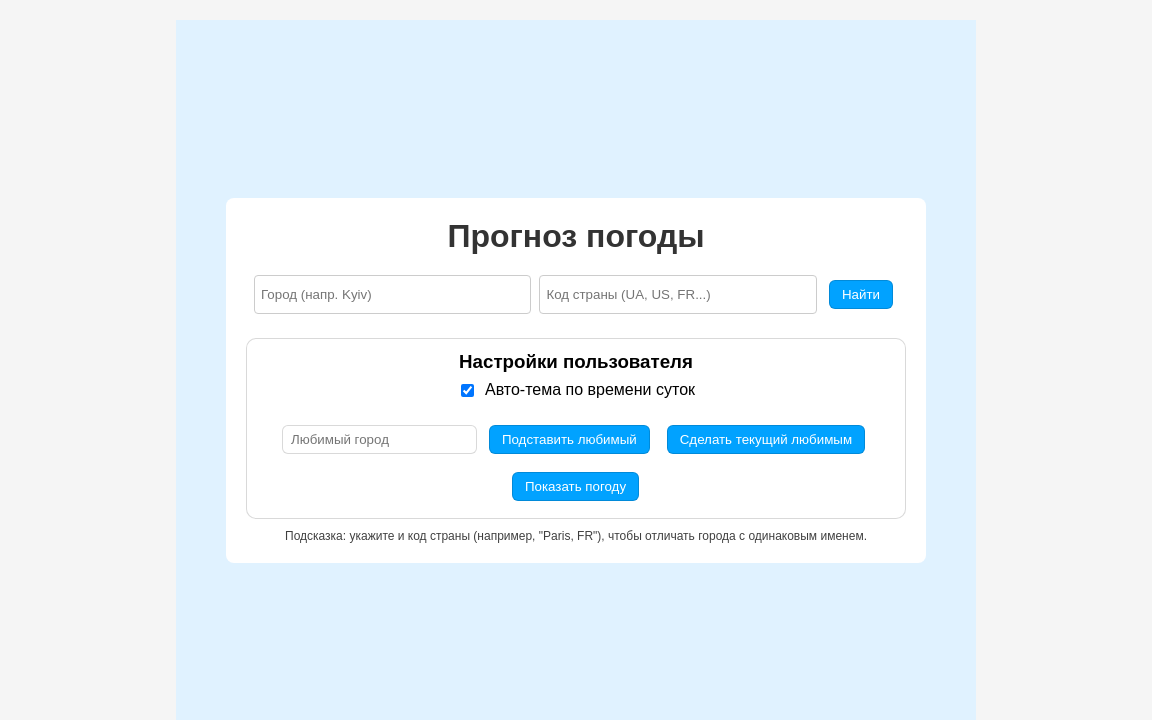
Test: WeatherApp component › відображає помилку, якщо fetch повертає 404
Step 1. Type "UnknownCity" into the field with placeholder "Город (напр. Kyiv)" → x=393, y=294, box [254, 274, 532, 314]
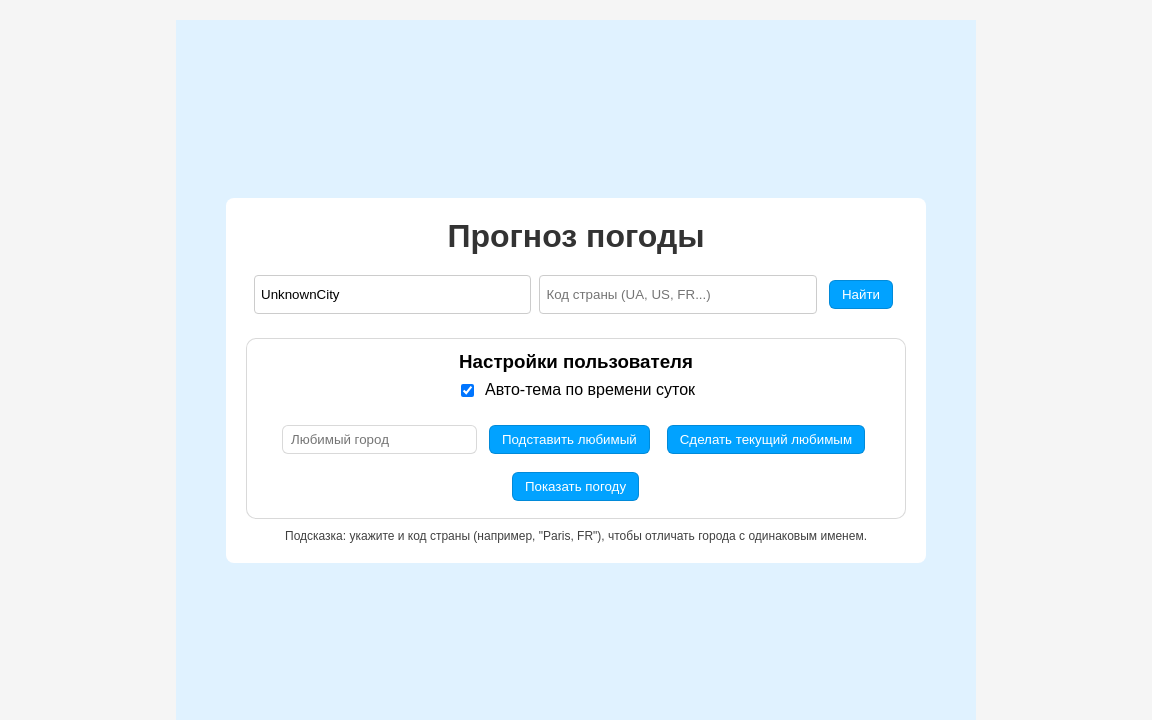
Step 2. Click the button "Найти" → x=861, y=294, box [829, 280, 893, 308]
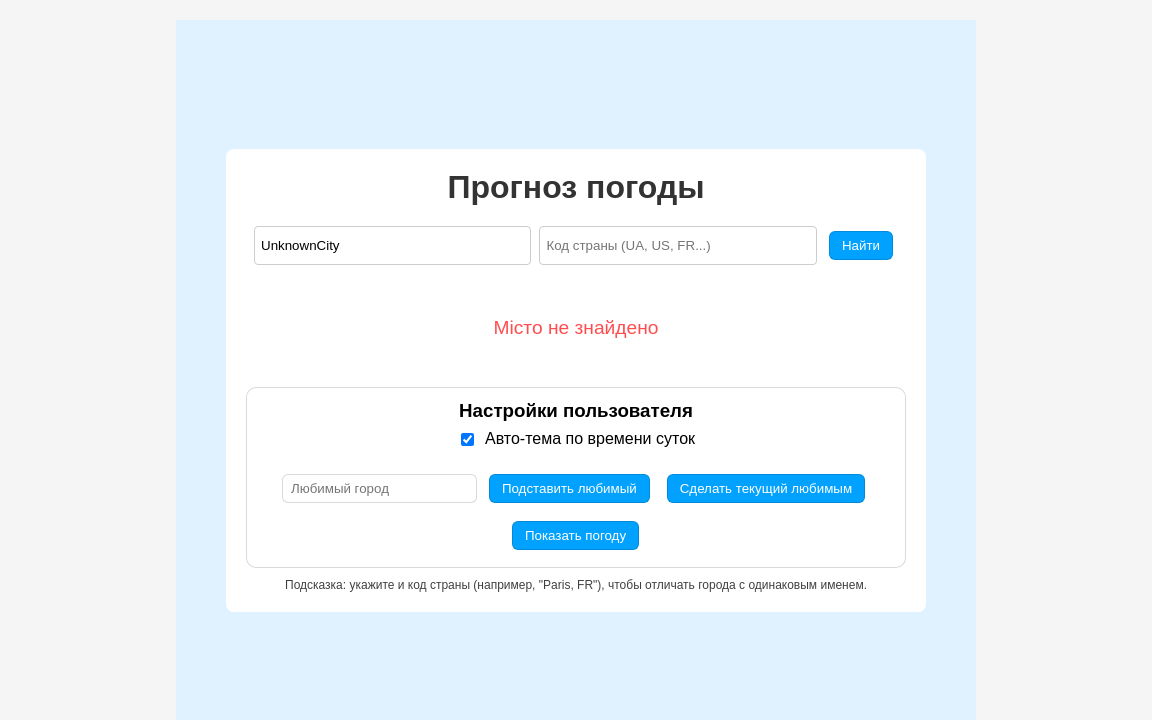
Now the text "Місто не знайдено" is shown, box [494, 316, 658, 338]
